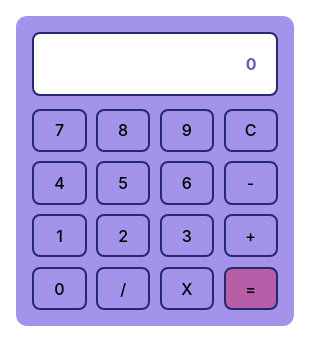
Test: resets the calculator state when C button is clicked
Click the button "8": (123, 130) [96,109,150,152]
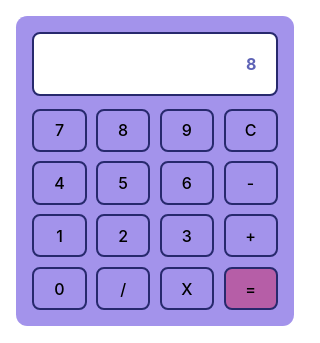
Click the button "C": (251, 130) [224,109,278,152]
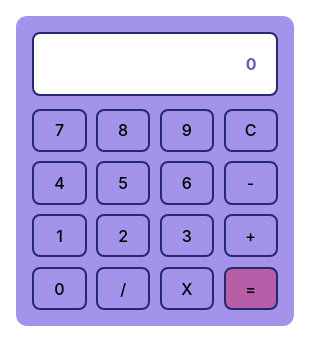
Check: the text with test id "calculator-screen" reads "0", box [246,54,256,74]
